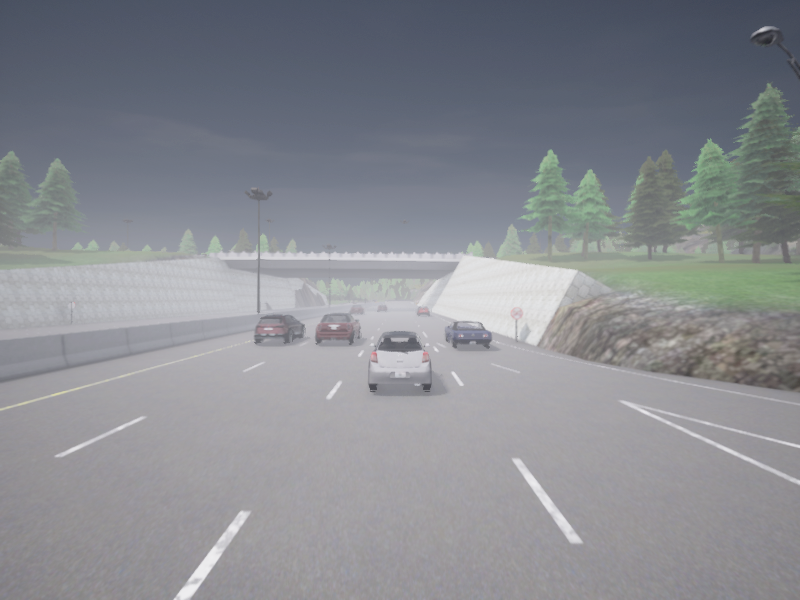vehicle: (368, 331, 431, 390), (254, 314, 304, 343), (315, 313, 360, 343), (444, 321, 491, 347), (350, 304, 364, 314), (416, 306, 429, 315), (378, 304, 387, 311)
